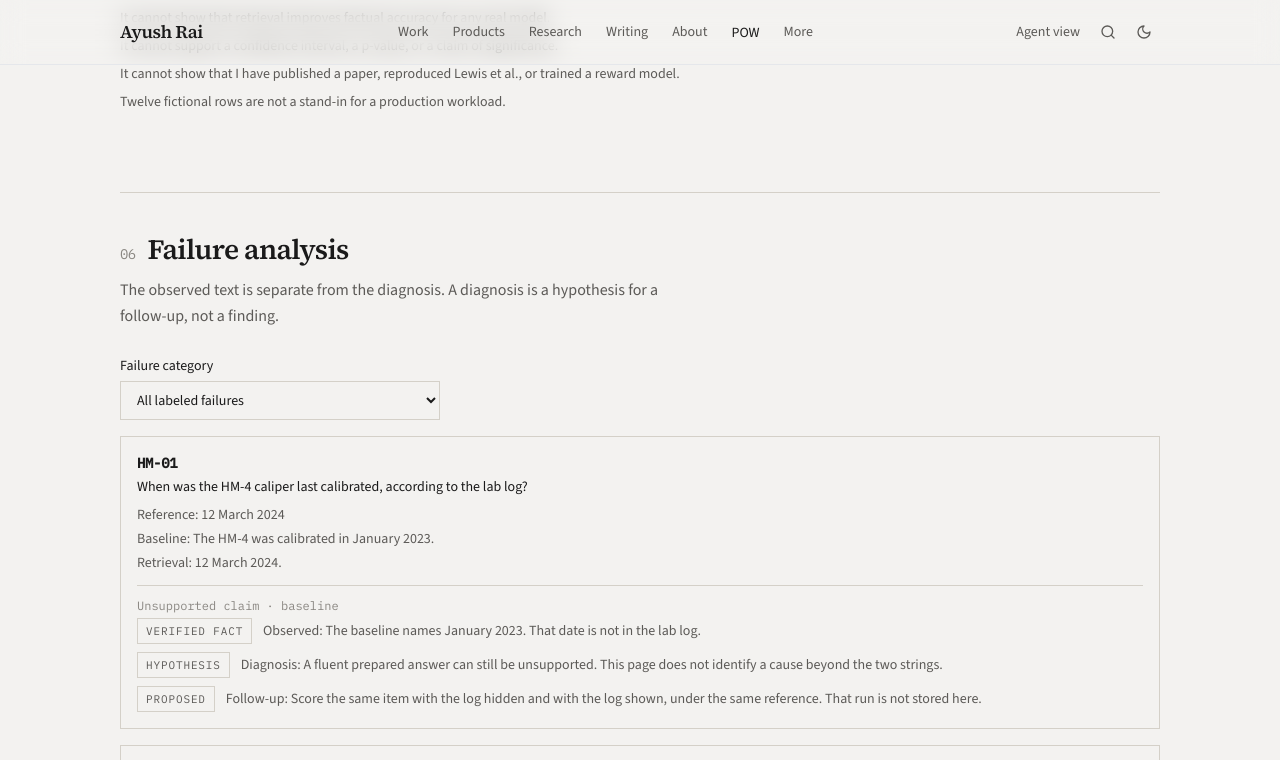
it: AI research engineering page › keeps an empty failure category, a local preference, and an unrun comparison
(page scrolled)
Step 1. Select "Incorrect reference answer" in the dropdown labelled "Failure category" → [280, 400], box [120,381,440,420]
(page scrolled)
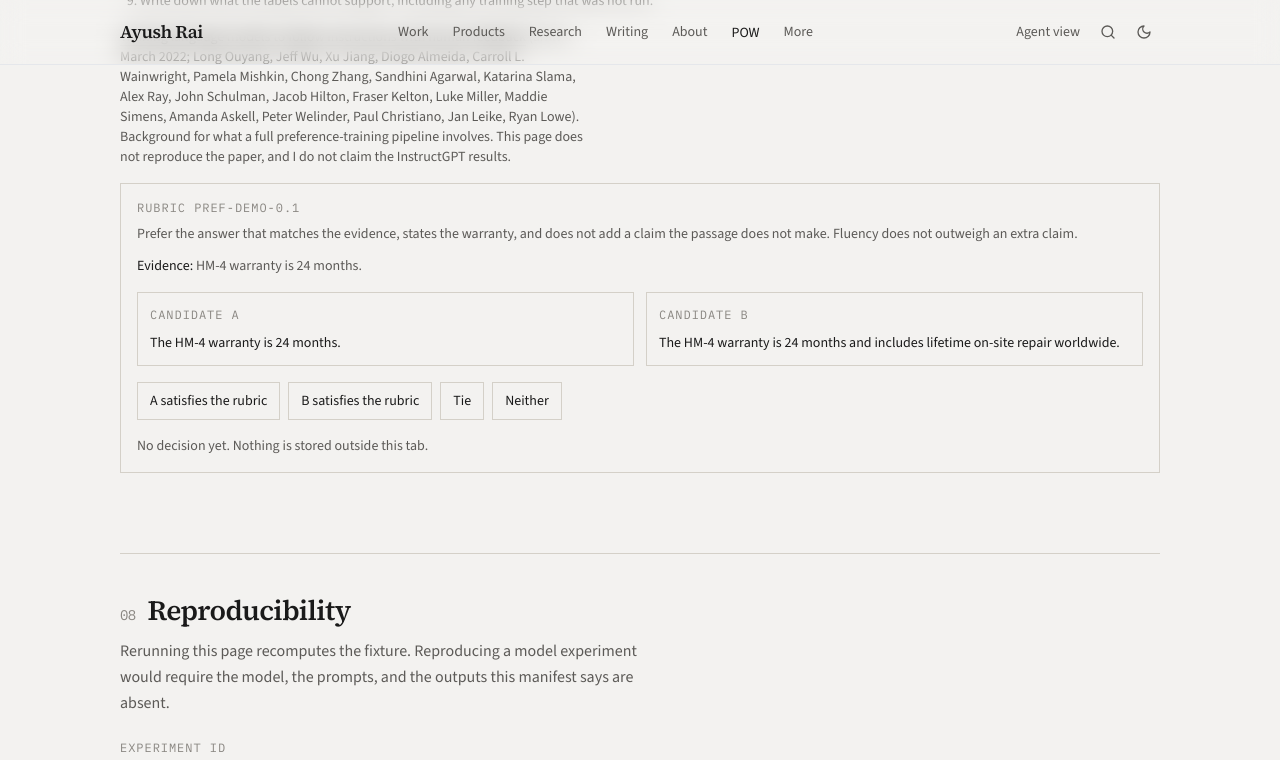
Step 2. Click the button "A satisfies the rubric" → [209, 401], box [137,382,280,420]
(page scrolled)
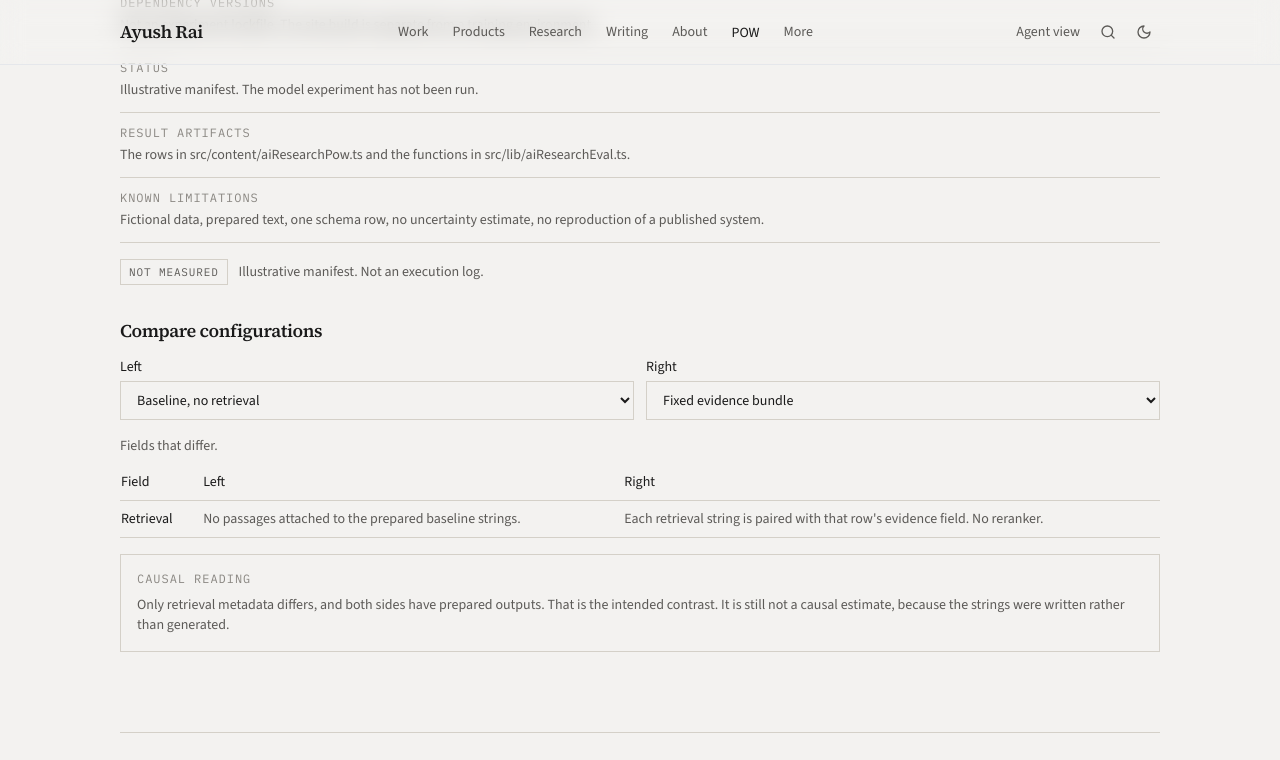
Step 3. Select "Retrieval with reranking" in the dropdown labelled "Right" → [903, 400], box [646,381,1160,420]
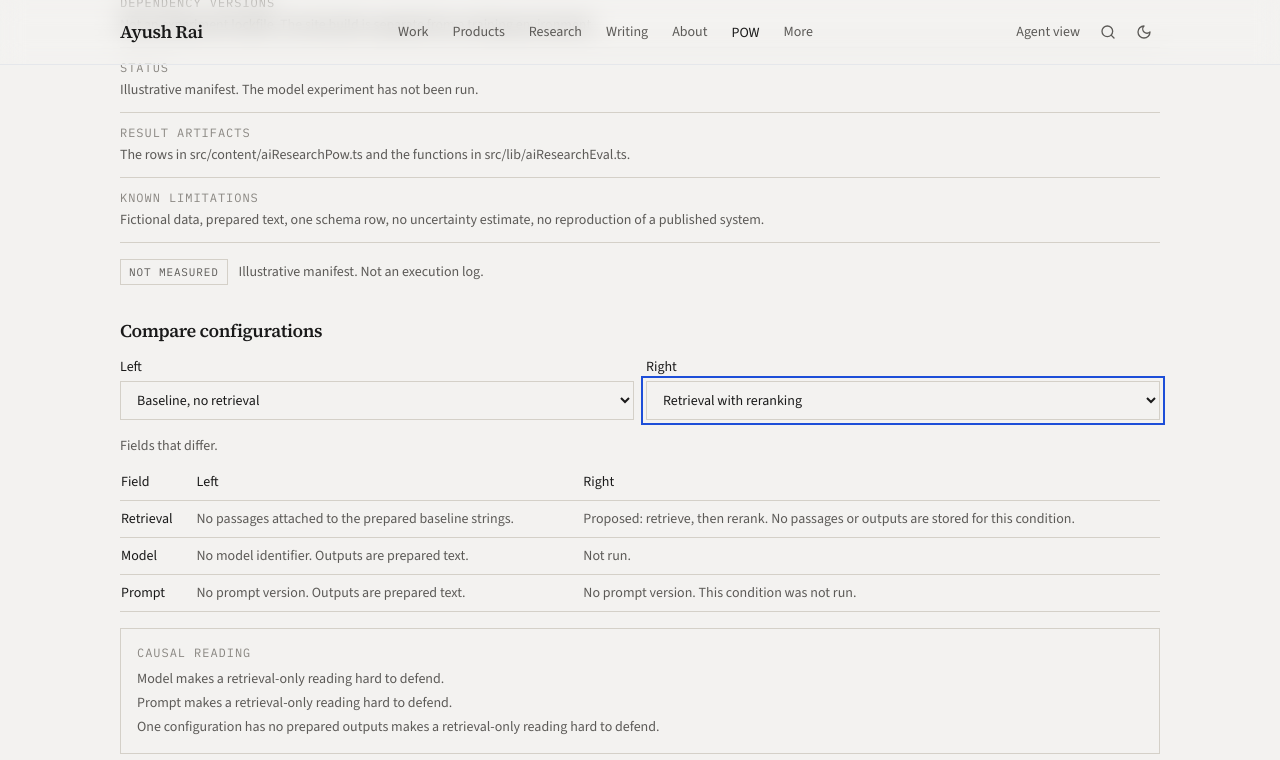
Check: the list item "One configuration has no prepared outputs" is shown, box [137,717,388,736]
Check: the text "Not run." is shown, box [582,537,1160,574]
